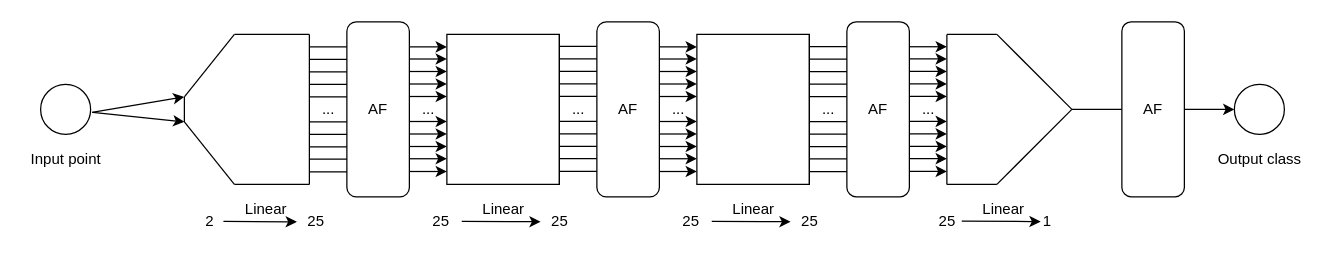
Some shapes in this 1330 by 256 pixel diagram are drawn without their labels. The centre of each missing label's shape, as x and y in pixels:
"0 or 1" belongs at point 1258,108.
"[x;y]" belongs at point 65,108.
